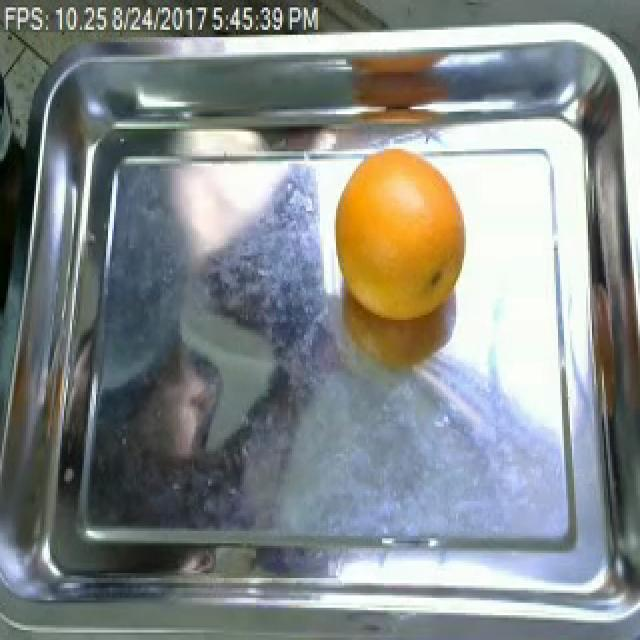Fruit: (326, 144, 474, 372)
